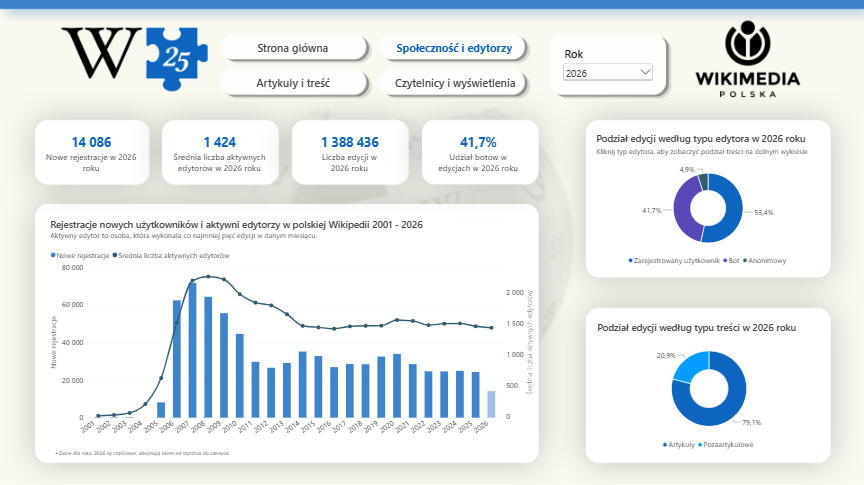

The page's visual inventory and layout, read from the dashboard file:
{"tool":"powerbi","page":{"name":"3_Społeczność i edytorzy","canvas":[1920,1080],"ordinal":2},"visuals":[{"type":"cardVisual","fields":{"Data":["_MEASURES.Aktywni Edytorzy_srd"]},"box":[367.9,276.8,238.5,128.2],"z":0},{"type":"lineClusteredColumnComboChart","title":"Rejestracje nowych użytkowników i aktywni edytorzy w polskiej Wikipedii 2001 - 2026","fields":{"Category":["DimDate.Rok"],"Y":["_MEASURES.Nowe rejestracje"],"Y2":["_MEASURES.Aktywni Edytorzy_srd"]},"box":[94.9,467.9,1110.3,528.2],"z":1000},{"type":"slicer","title":"Rok","fields":{"Values":["DimDate.Rok"]},"box":[1246.3,101.5,208.9,86.7],"z":2000},{"type":"cardVisual","fields":{"Data":["_MEASURES.Całkowita liczba edycji"]},"box":[676.8,276.8,198.2,126.8],"z":3000},{"type":"cardVisual","fields":{"Data":["_MEASURES.Nowe rejestracje"]},"box":[82.1,276.8,241.1,128.6],"z":4000},{"type":"cardVisual","fields":{"Data":["_MEASURES.Edycje Botow %"]},"box":[948.2,278.6,228.6,126.8],"z":5000},{"type":"donutChart","fields":{"Category":["8_edycje_uzytkownikow_clean.Typ Edytora Grupa"],"Y":["_MEASURES.Całkowita liczba edycji"]},"box":[1309,278.2,529.5,332.1],"z":6000},{"type":"donutChart","fields":{"Y":["Sum(8_edycje_uzytkownikow_clean.Edycje Artykułów)","Sum(8_edycje_uzytkownikow_clean.Edycje Pozaartykułowe)"]},"box":[1310.1,698.7,529.1,321.5],"z":7000},{"type":"actionButton","box":[510.9,77.3,278.6,58.3],"z":8000},{"type":"actionButton","box":[536.7,155.5,227.3,57.8],"z":9000},{"type":"actionButton","box":[845.3,74.3,329.8,65.5],"z":10000},{"type":"actionButton","box":[846.9,155.5,329.7,57.8],"z":11000},{"type":"textbox","box":[114.1,997.4,506.3,24.1],"z":12000}]}

Visuals, with their boxes in screenshot pixels (x1, y1, x2, y2), scaled from the page's 1920x1080 canvas onto the 864x485 screenshot:
cardVisual - _MEASURES.Aktywni Edytorzy_srd: {"x1": 166, "y1": 124, "x2": 273, "y2": 182}
"Rejestracje nowych użytkowników i aktywni edytorzy w polskiej Wikipedii 2001 - 2026" lineClusteredColumnComboChart: {"x1": 43, "y1": 210, "x2": 542, "y2": 447}
"Rok" slicer: {"x1": 561, "y1": 46, "x2": 655, "y2": 85}
cardVisual - _MEASURES.Całkowita liczba edycji: {"x1": 305, "y1": 124, "x2": 394, "y2": 181}
cardVisual - _MEASURES.Nowe rejestracje: {"x1": 37, "y1": 124, "x2": 145, "y2": 182}
cardVisual - _MEASURES.Edycje Botow %: {"x1": 427, "y1": 125, "x2": 530, "y2": 182}
donutChart - 8_edycje_uzytkownikow_clean.Typ Edytora Grupa x _MEASURES.Całkowita liczba edycji: {"x1": 589, "y1": 125, "x2": 827, "y2": 274}
donutChart - Sum(8_edycje_uzytkownikow_clean.Edycje Artykułów) x Sum(8_edycje_uzytkownikow_clean.Edycje Pozaartykułowe): {"x1": 590, "y1": 314, "x2": 828, "y2": 458}
actionButton: {"x1": 230, "y1": 35, "x2": 355, "y2": 61}
actionButton: {"x1": 242, "y1": 70, "x2": 344, "y2": 96}
actionButton: {"x1": 380, "y1": 33, "x2": 529, "y2": 63}
actionButton: {"x1": 381, "y1": 70, "x2": 529, "y2": 96}
textbox: {"x1": 51, "y1": 448, "x2": 279, "y2": 459}
